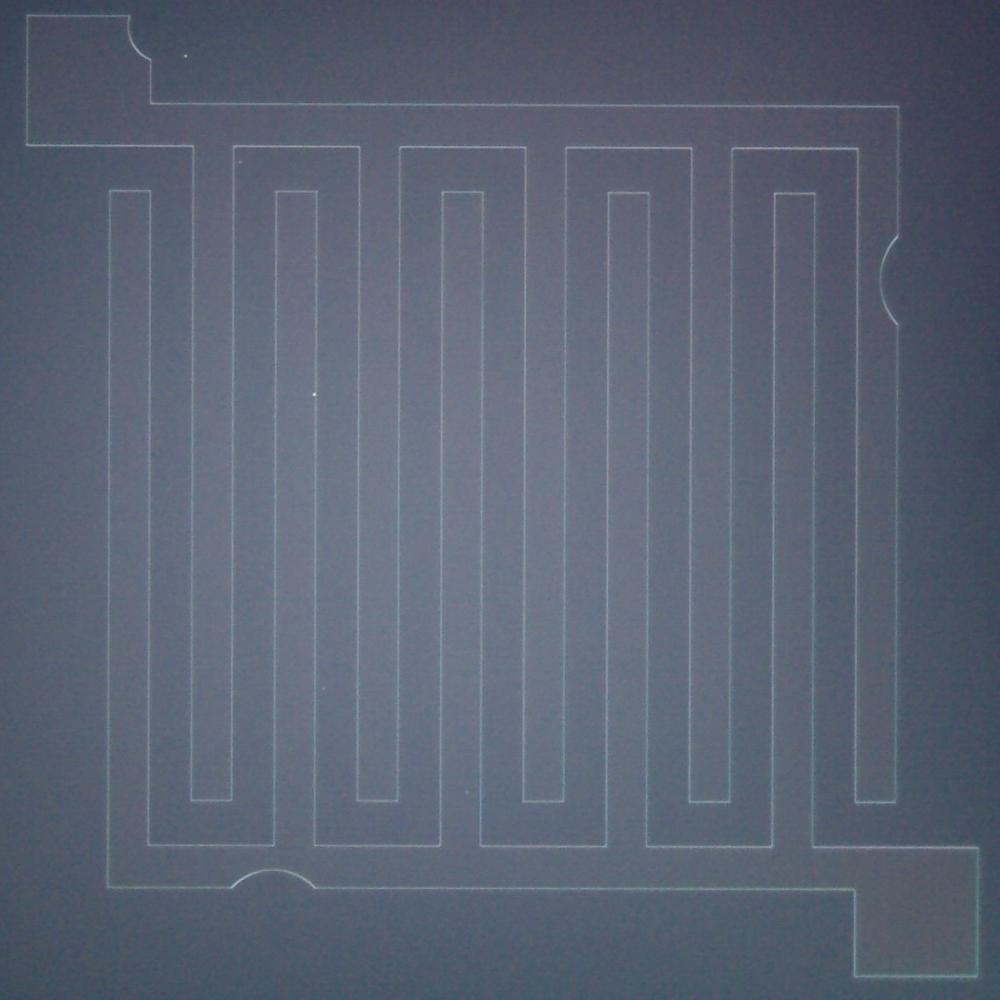dot: (238, 159, 242, 164), (312, 392, 316, 397), (184, 55, 187, 57)
